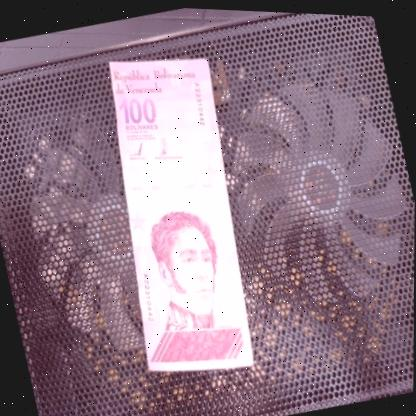one_hundred-front-vef: (80, 37, 278, 388)
